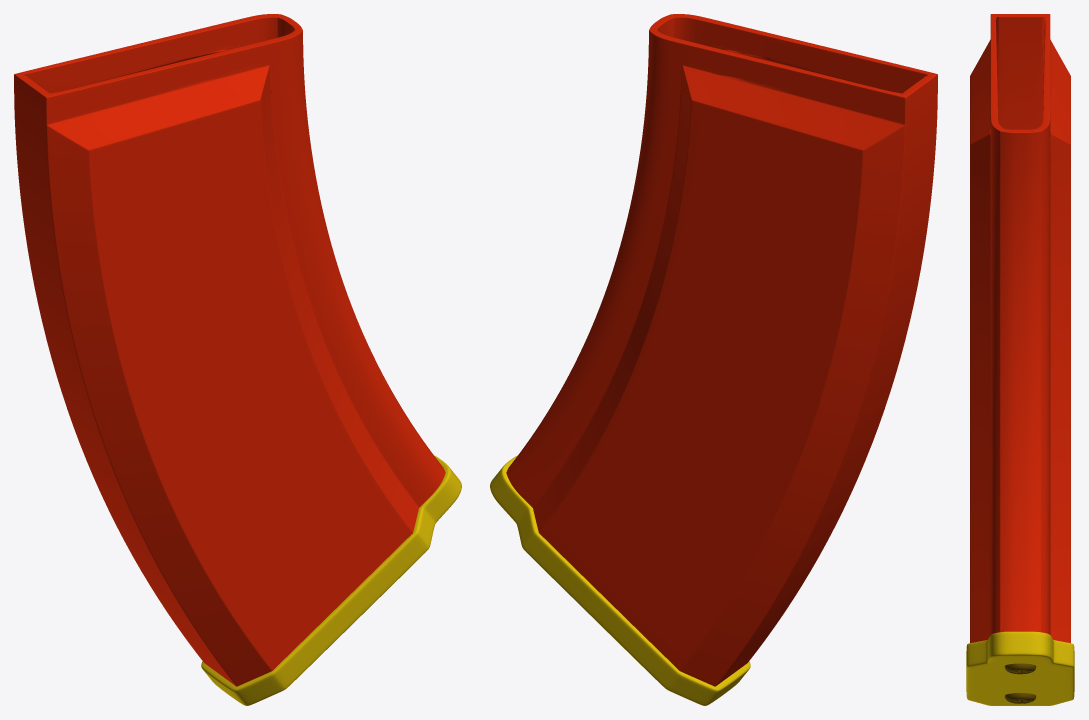
The model's file is magazine_05.fbx.
The picture shows the model from 3 angles, left to right: view 1: azimuth 30°, elevation 25°; view 2: azimuth 150°, elevation 25°; view 3: azimuth 270°, elevation 25°; orthographic projection. The views are drawn at different scales.
Parts seen in each view (by area): view 1: Cube.100; view 2: Cube.100; view 3: Cube.100.
Boxes of the visible parts, x1,y1,x2,y2 form: Cube.100: [14, 14, 461, 705]; Cube.100: [490, 14, 937, 705]; Cube.100: [966, 14, 1074, 705].
Size of the model in its own units: 46.74 by 69.43 by 11.3.
